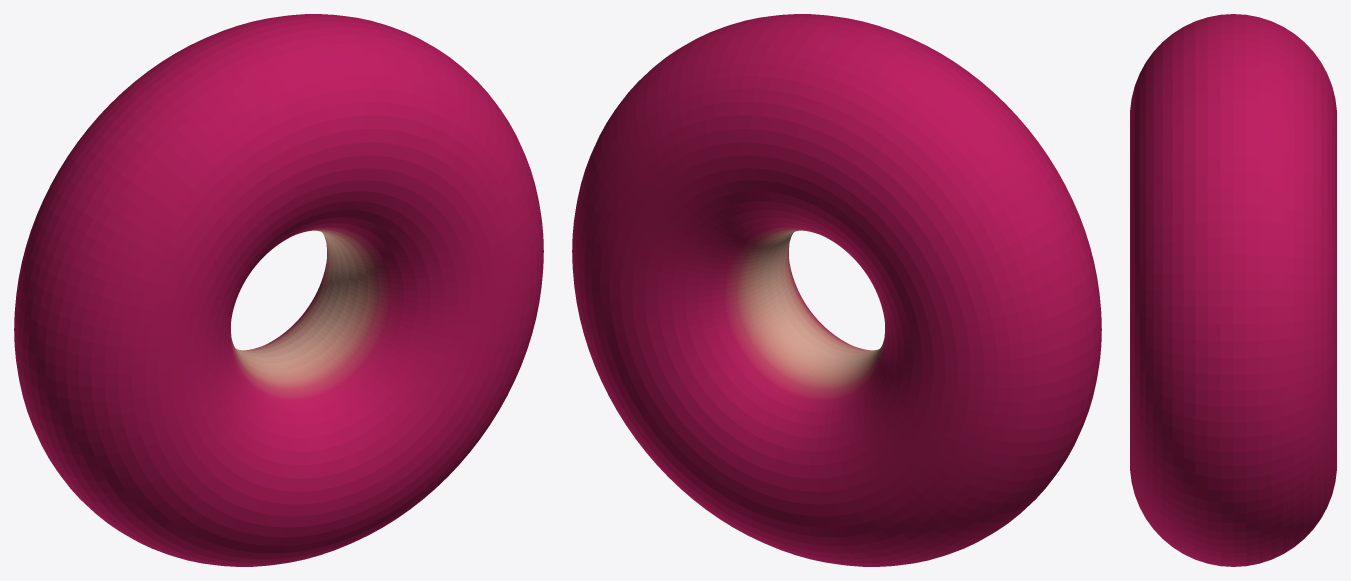
The picture shows the model from 3 angles, left to right: view 1: azimuth 30°, elevation 25°; view 2: azimuth 150°, elevation 25°; view 3: azimuth 270°, elevation 25°; orthographic projection. The views are drawn at different scales.
Parts seen in each view (by area): view 1: world; view 2: world; view 3: world.
Boxes of the visible parts, x1=… form: world: x1=14, y1=14, x2=543, y2=566; world: x1=572, y1=14, x2=1101, y2=566; world: x1=1130, y1=14, x2=1336, y2=566.
Bounding box in the file's own units: 20.27 × 20.27 × 7.59.
